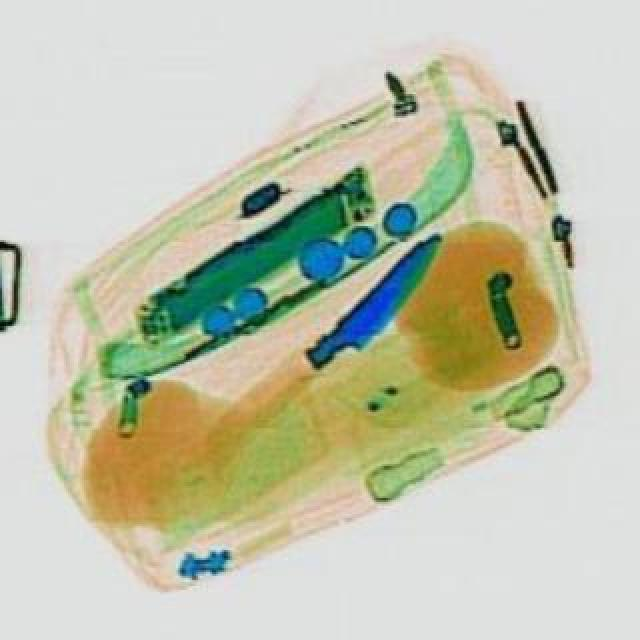knife: (296, 220, 456, 378)
